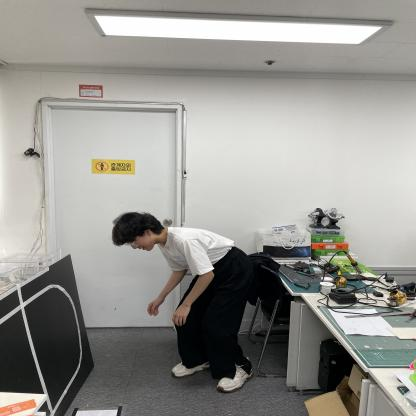fall: (114, 207, 257, 392)
